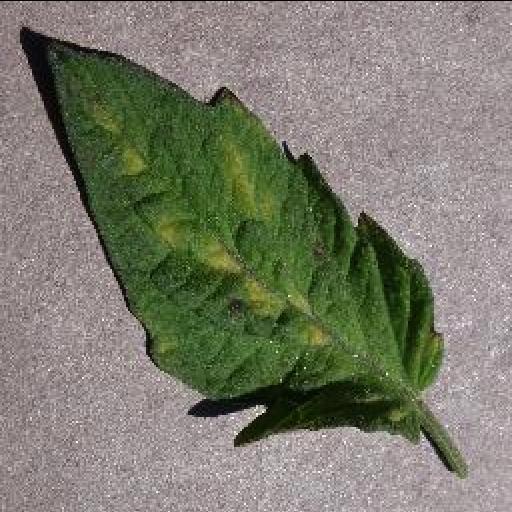disease_tomato: (42, 36, 444, 445)
